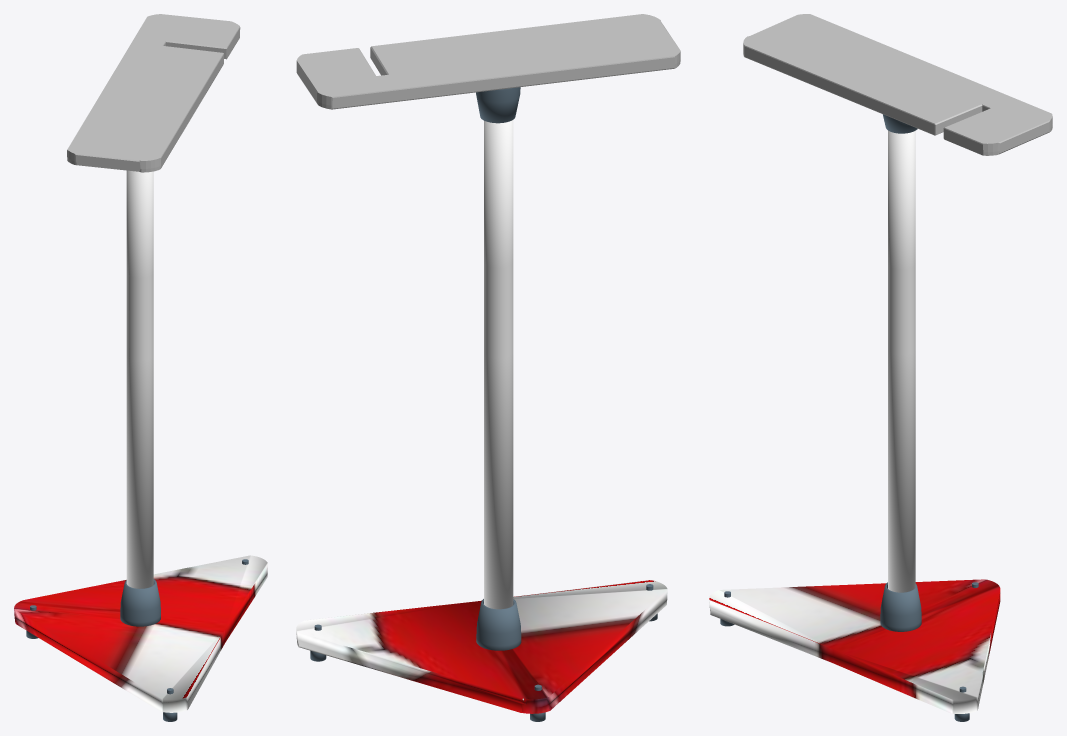
Rendered from stand.obj.
3 views of the same model, side by side, from view 1: azimuth 30°, elevation 25°; view 2: azimuth 150°, elevation 25°; view 3: azimuth 270°, elevation 25° (orthographic). The views are drawn at different scales.
Parts seen in each view (by area): view 1: Plane.004_Plane.003; view 2: Plane.004_Plane.003; view 3: Plane.004_Plane.003.
Part boxes in pixels (x1,y1,x2,y2): Plane.004_Plane.003: [14, 14, 267, 721]; Plane.004_Plane.003: [296, 14, 680, 721]; Plane.004_Plane.003: [709, 14, 1052, 721].
Size of the model in its own units: 2.03 by 4 by 2.16.
